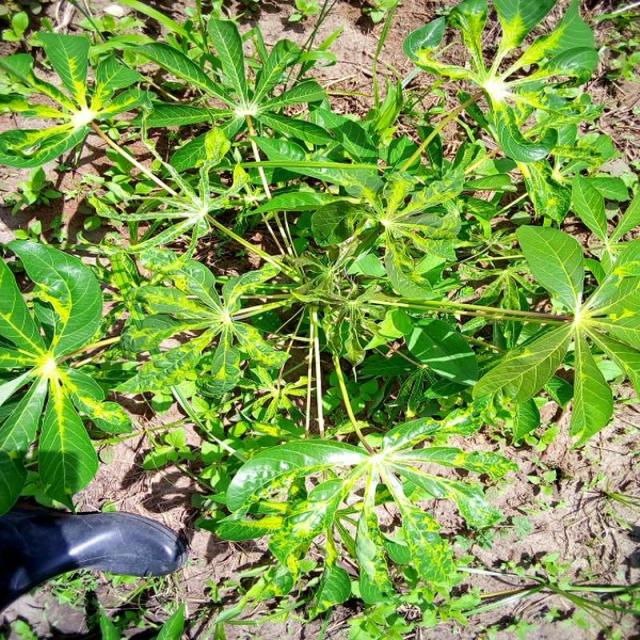cassava leaf: (0, 1, 638, 628), (0, 236, 131, 513)
